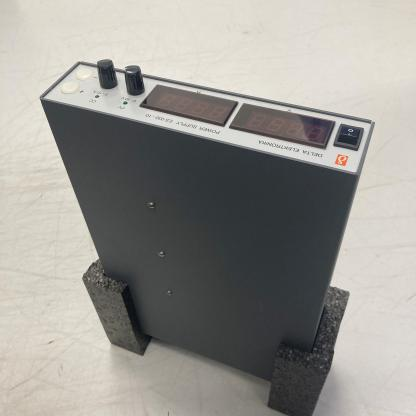SP0000005: (36, 29, 415, 415)
